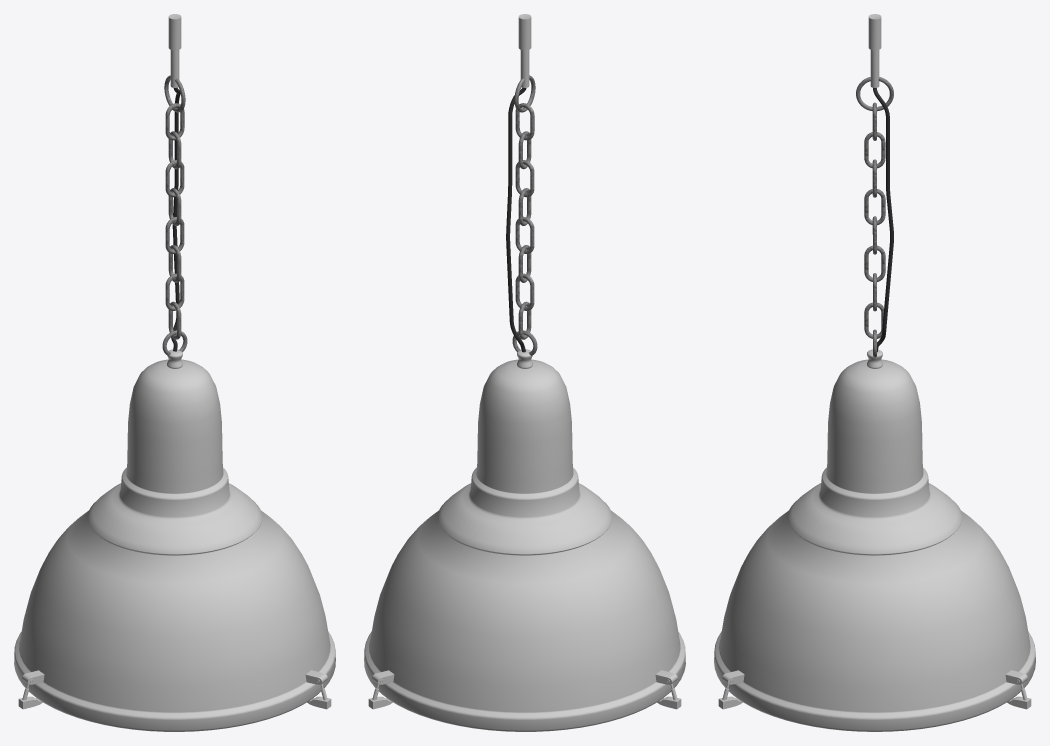
The model's file is Industrial Light.fbx.
3 renders of one model, left to right at view 1: azimuth 30°, elevation 25°; view 2: azimuth 150°, elevation 25°; view 3: azimuth 270°, elevation 25°, orthographic.
Parts seen in each view (by area): view 1: Lamp, Chain, Cable; view 2: Lamp, Chain, Cable; view 3: Lamp, Chain, Cable.
Boxes of the visible parts, <box> form: Lamp: <box>14,14,335,731</box>; Chain: <box>165,103,184,339</box>; Cable: <box>171,87,180,351</box>; Lamp: <box>364,14,685,731</box>; Chain: <box>515,103,534,339</box>; Cable: <box>506,87,526,352</box>; Lamp: <box>714,14,1035,731</box>; Chain: <box>864,102,885,338</box>; Cable: <box>873,88,893,351</box>.
Bounding box in the file's own units: 457 × 973 × 434.
